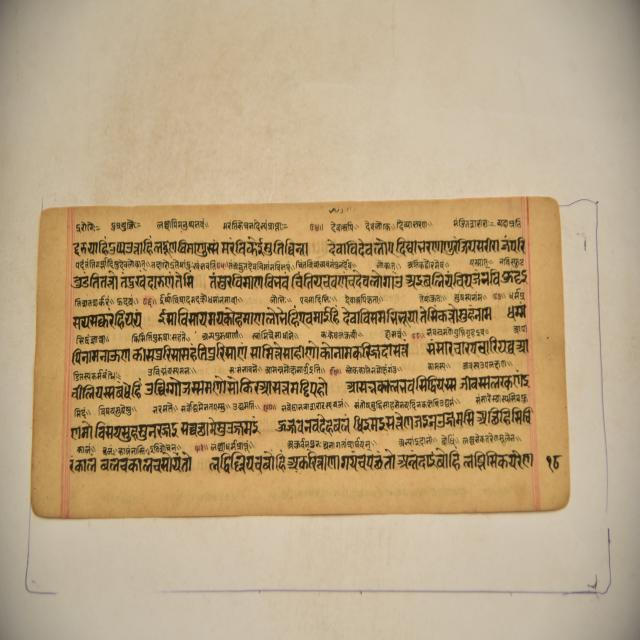text_paragraph: (32, 197, 569, 513)
